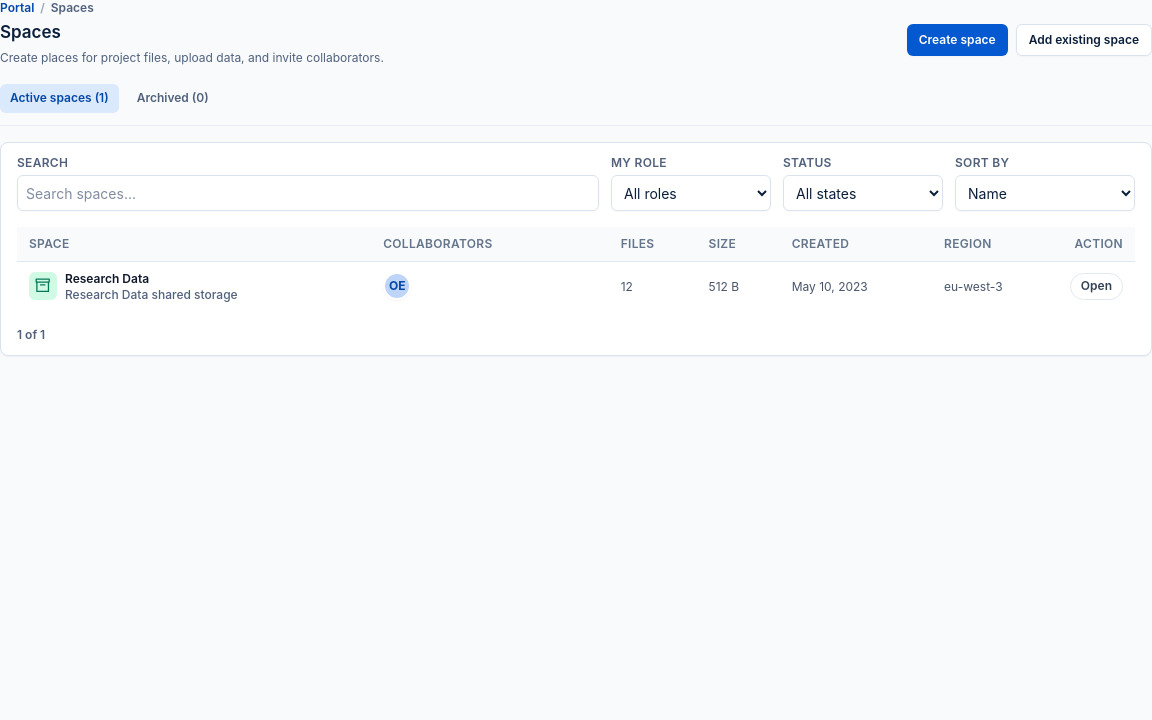
PortalStorageSpacesPage › closes an untouched create modal and protects edited values
Click the button "Create space" at x=957, y=40, box [907,24,1008,56]
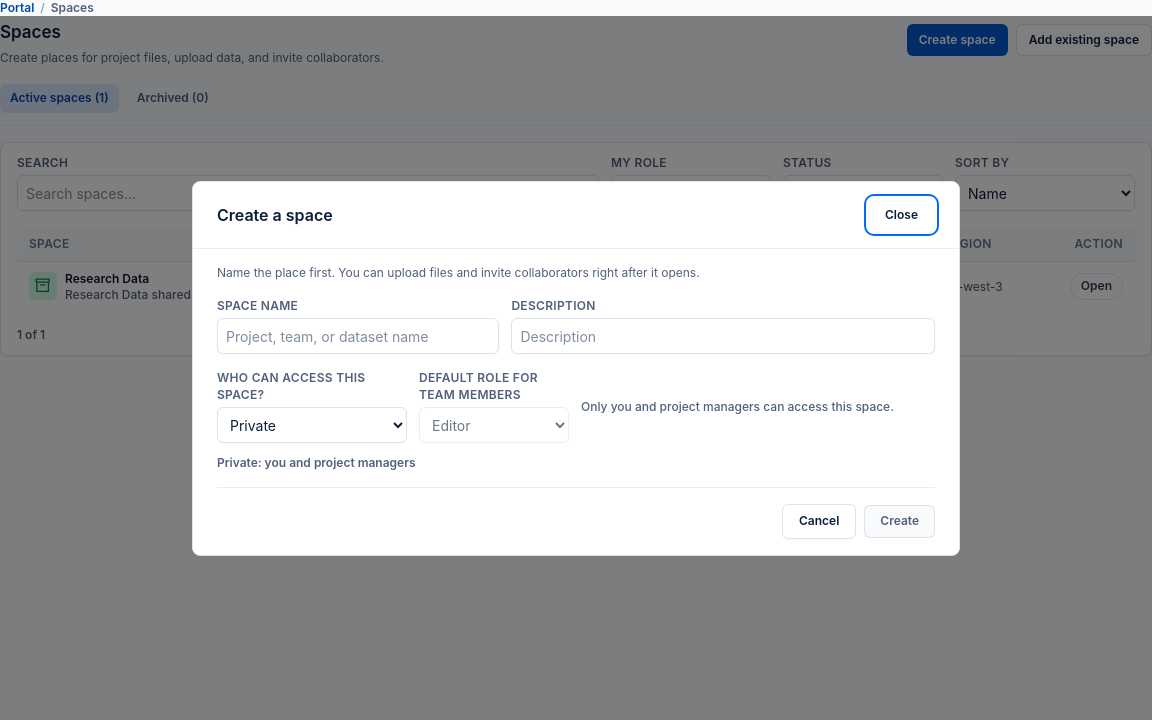
Check: the dialog "Create a space" is shown, box [192,180,960,556]
Click the button "Cancel" at x=819, y=521, box [782,504,856,538]
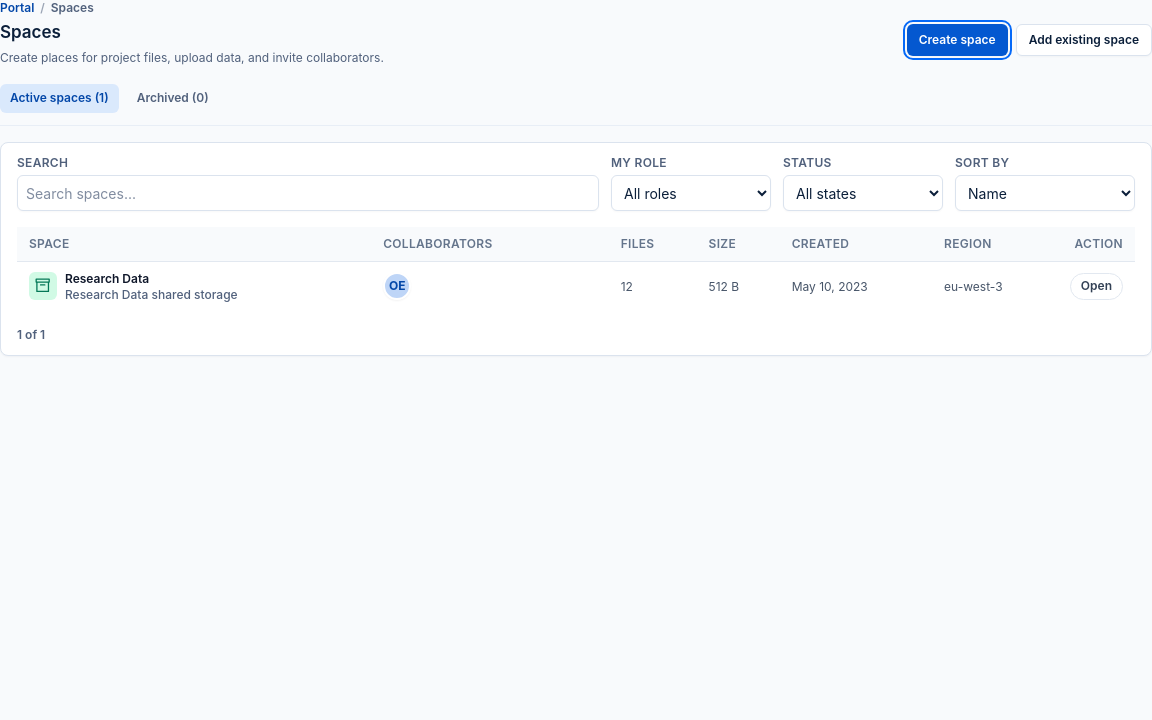
Check: the dialog "Discard changes?" is not shown
Check: the heading "Create a space" is gone
Click the button "Create space" at x=957, y=40, box [907,24,1008,56]
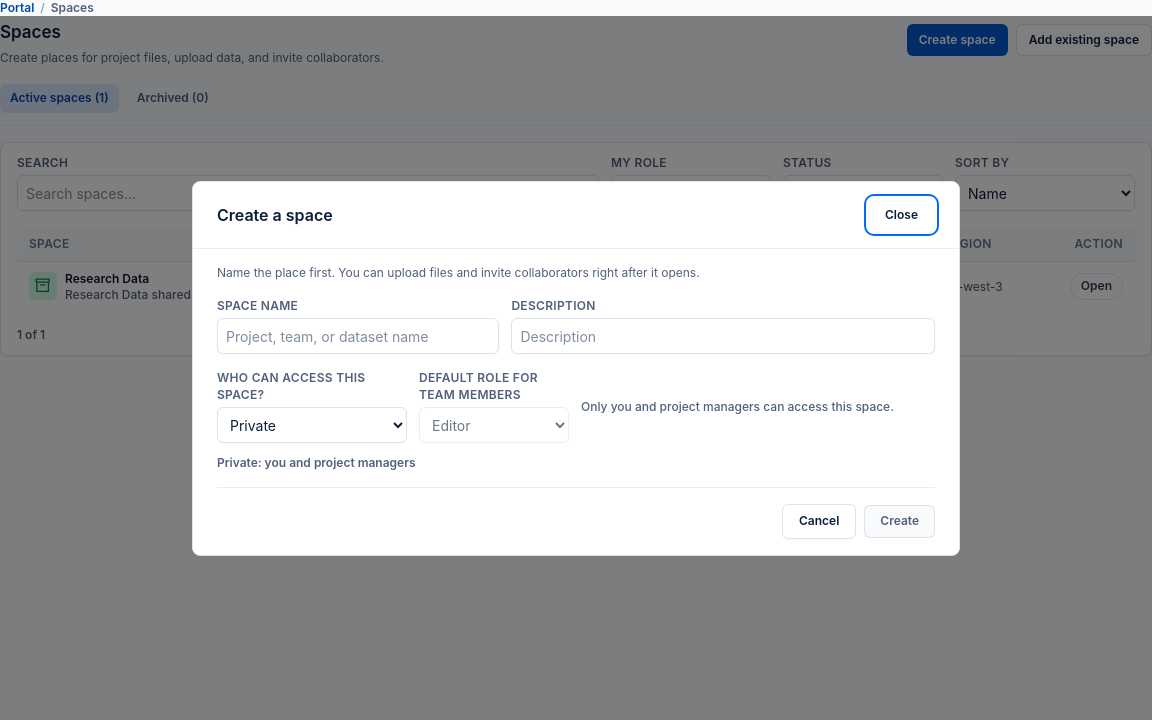
Type "Research" into the field labelled "Space name" at x=358, y=336, box [217,318,499,354]
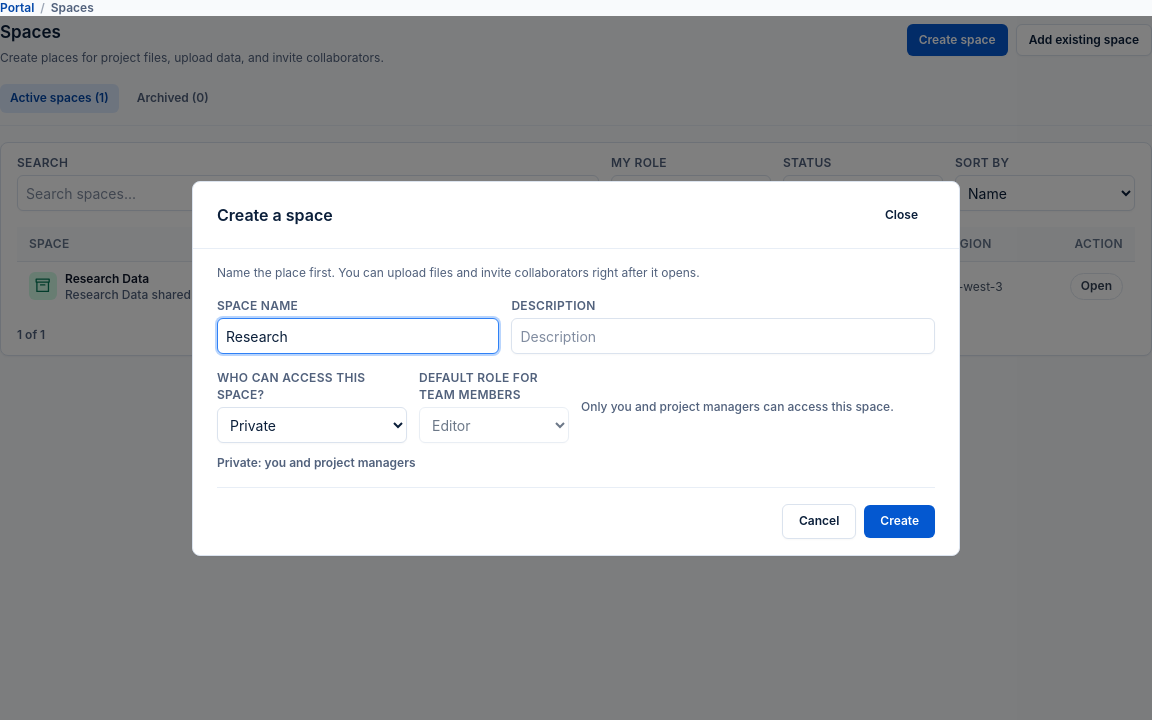
Click the button "Cancel" at x=819, y=521, box [782,504,856,538]
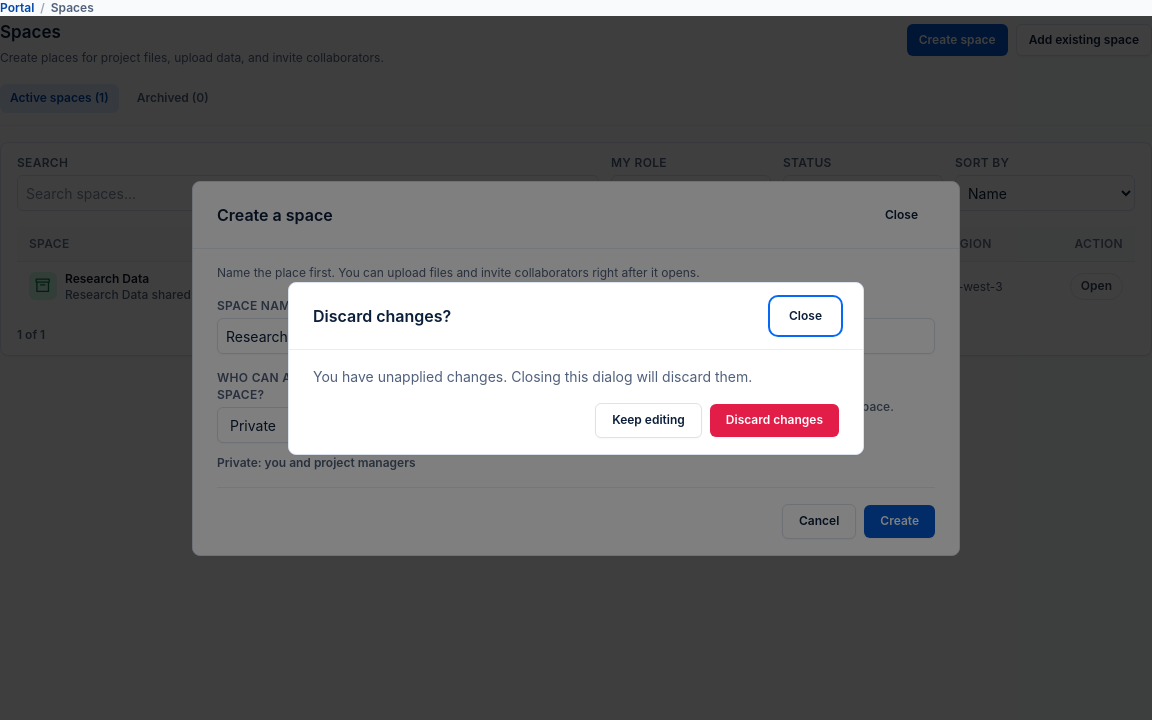
Check: the dialog "Discard changes?" is shown, box [288,282,864,454]
Click the button "Discard changes" at x=774, y=420, box [710,404,839,436]
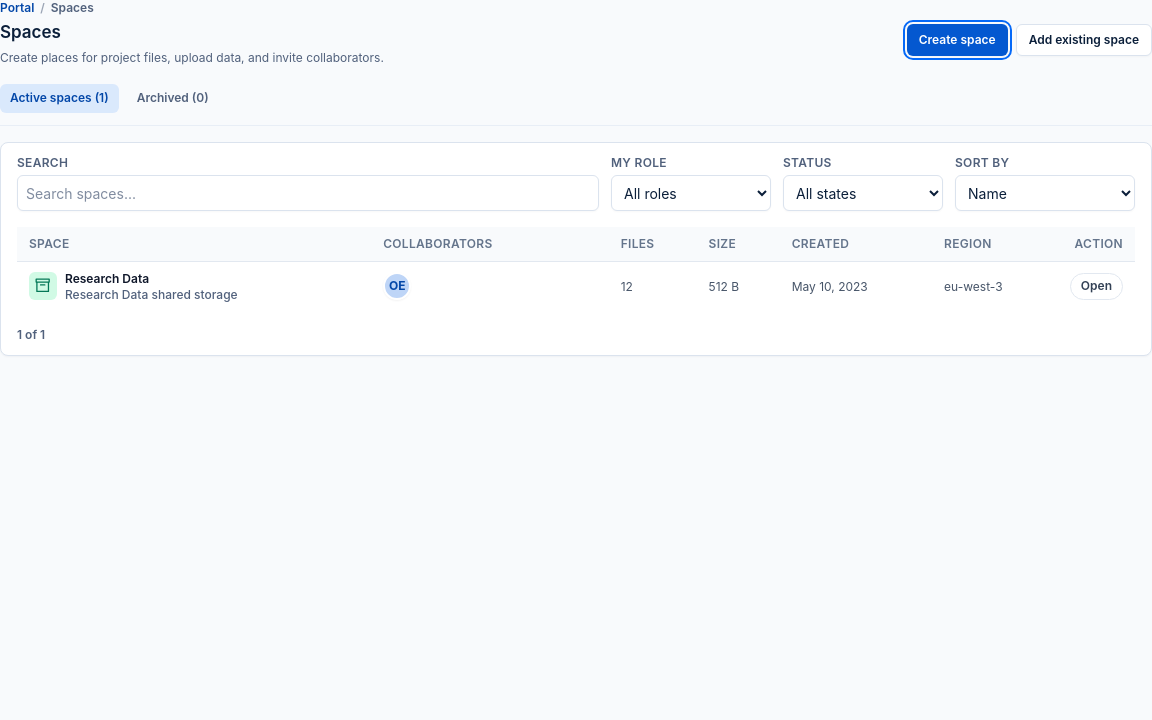
Check: the heading "Create a space" is gone
